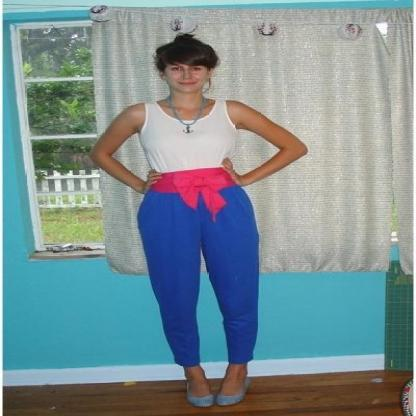pants: (137, 184, 258, 367)
shirt: (126, 102, 237, 172)
shoe: (188, 386, 243, 406)
